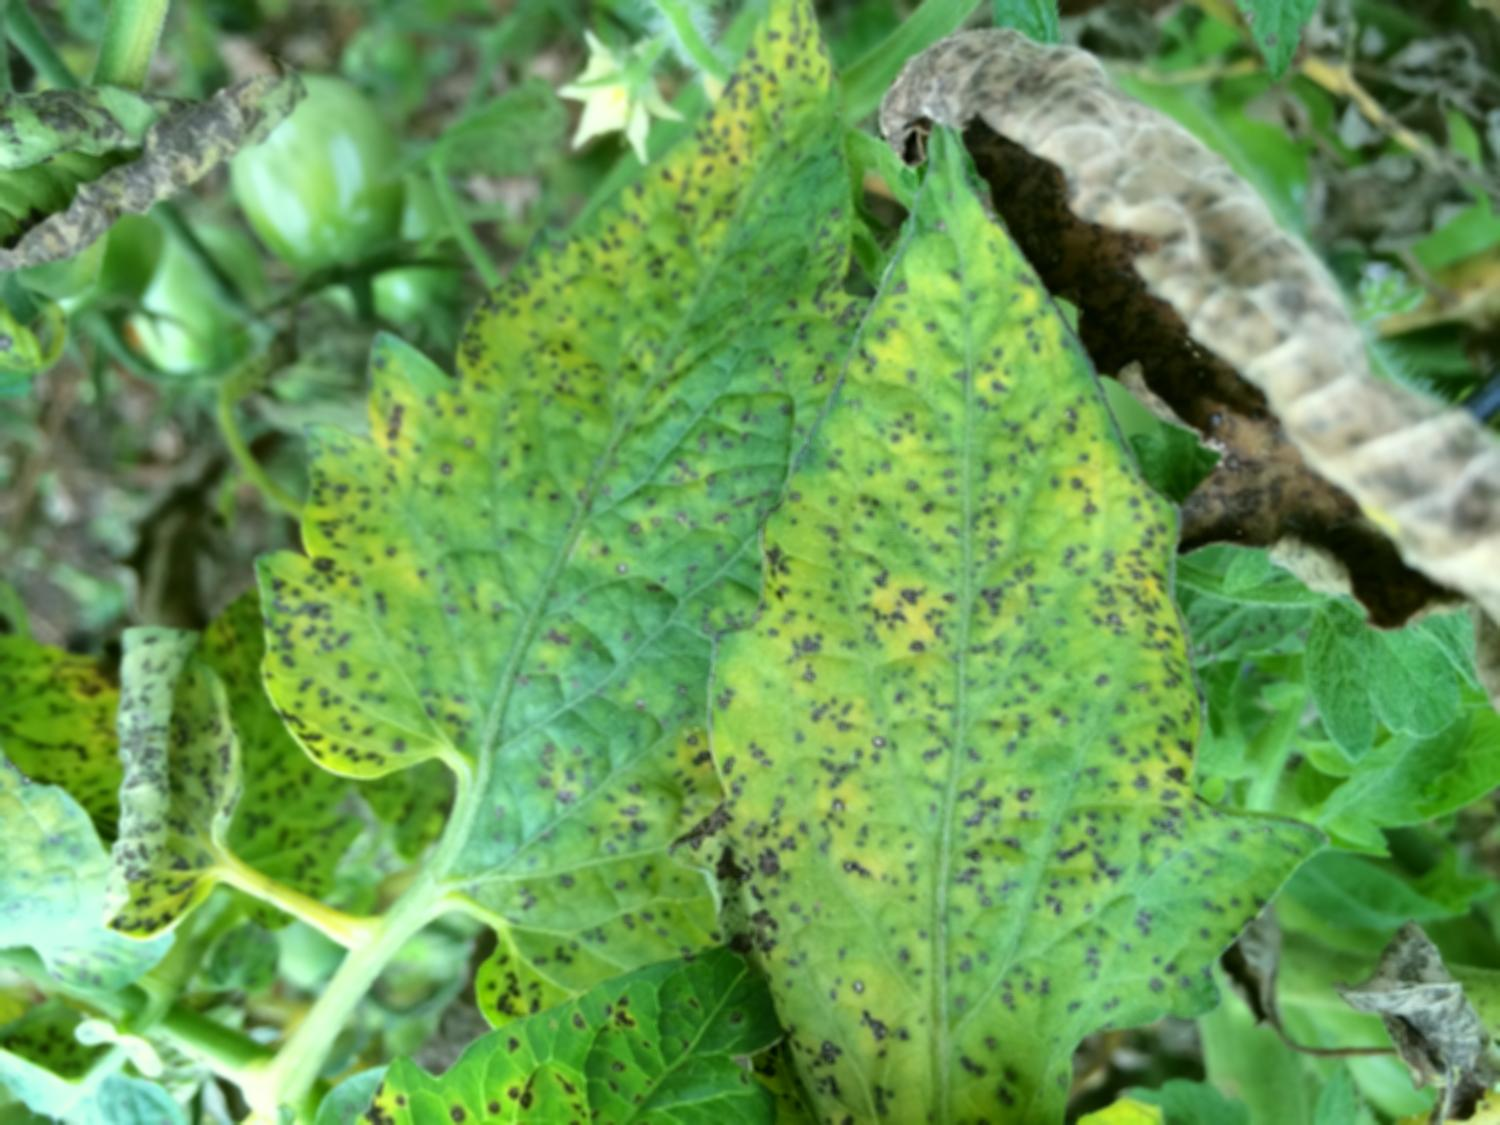Tomato Septoria leaf spot: (182, 28, 888, 982), (705, 87, 1269, 1115)
